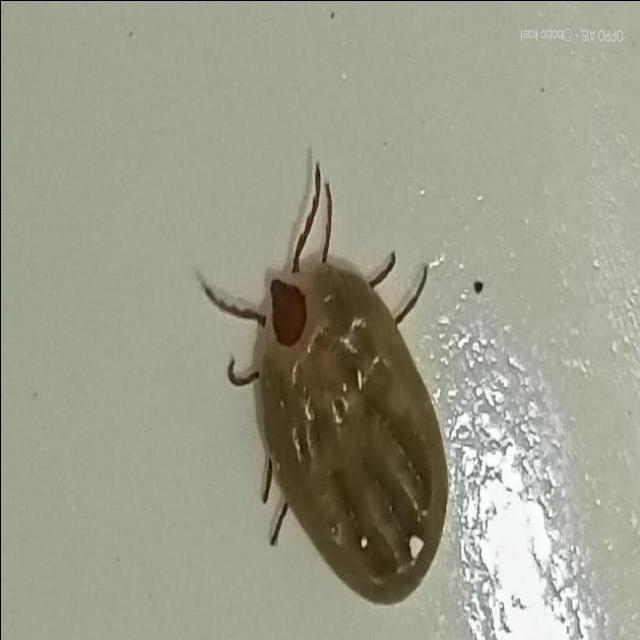Rhipicephalus Sanguineus-F-Fed: (197, 145, 448, 604)
